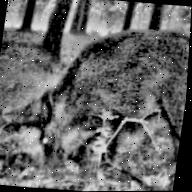boar: (18, 24, 191, 182)
